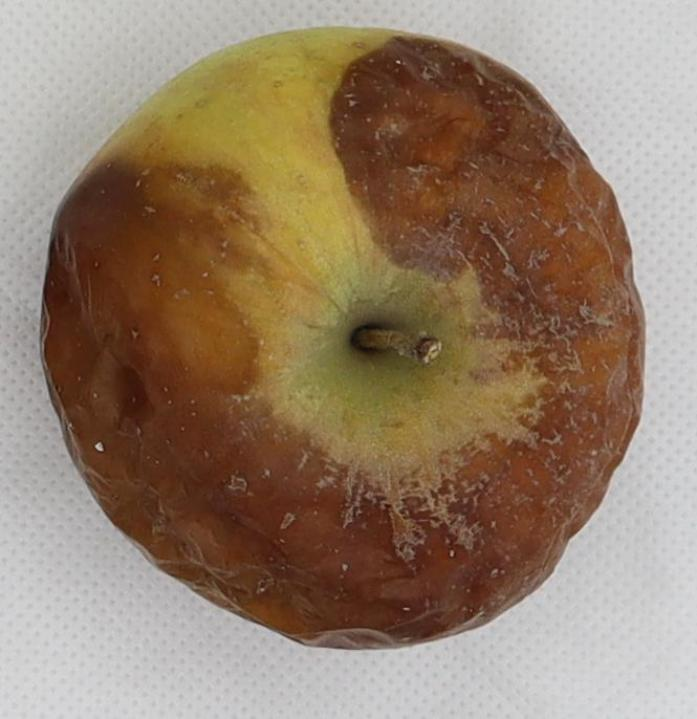apple: (42, 28, 643, 648)
rot_mold_decay: (37, 39, 644, 649)
